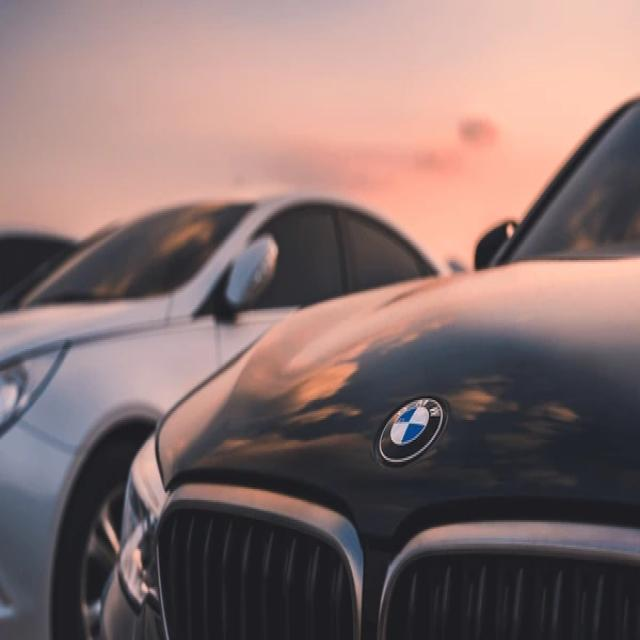bmw: (375, 390, 441, 462)
